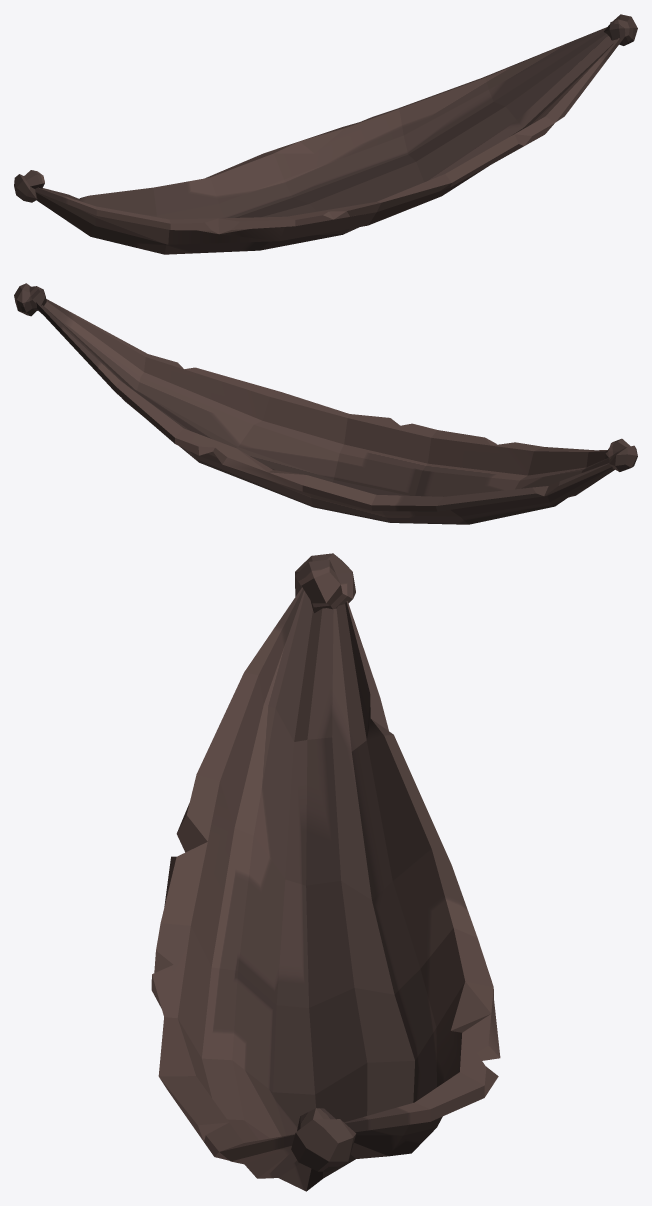
File: SM_Prop_Hammock_01.fbx
The picture shows the model from 3 angles, top to bottom: view 1: azimuth 30°, elevation 25°; view 2: azimuth 150°, elevation 25°; view 3: azimuth 270°, elevation 25°; orthographic projection. The views are drawn at different scales.
Parts seen in each view (by area): view 1: SM_Prop_Hammock_01; view 2: SM_Prop_Hammock_01; view 3: SM_Prop_Hammock_01.
Boxes of the visible parts, x1,y1,x2,y2 form: SM_Prop_Hammock_01: (14, 14, 637, 254); SM_Prop_Hammock_01: (14, 283, 637, 524); SM_Prop_Hammock_01: (151, 553, 500, 1191).
Bounding box in the file's own units: 330 × 71.89 × 80.47.
